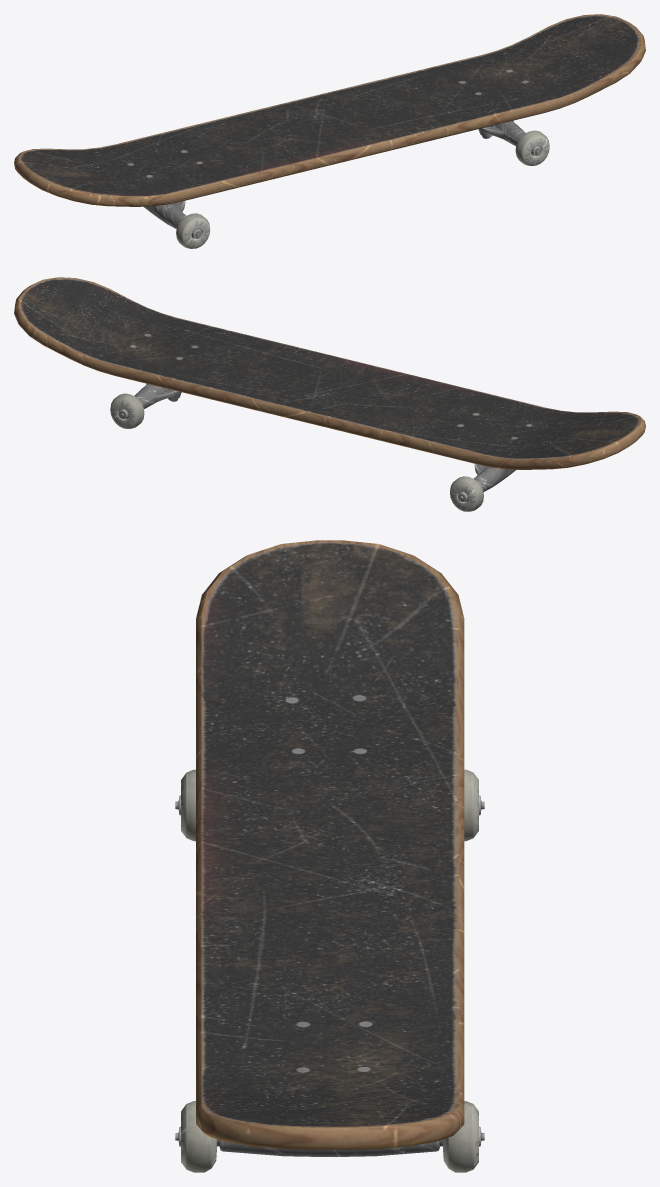
The model's file is SM_Skateboard.fbx.
The picture shows the model from 3 angles, top to bottom: view 1: azimuth 30°, elevation 25°; view 2: azimuth 150°, elevation 25°; view 3: azimuth 270°, elevation 25°; orthographic projection. The views are drawn at different scales.
Parts seen in each view (by area): view 1: SM_Skateboard_LOD0; view 2: SM_Skateboard_LOD0; view 3: SM_Skateboard_LOD0.
Boxes of the visible parts, x1,y1,x2,y2 form: SM_Skateboard_LOD0: (14, 14, 645, 248); SM_Skateboard_LOD0: (14, 277, 645, 511); SM_Skateboard_LOD0: (175, 540, 484, 1172).
Bounding box in the file's own units: 120 × 26.51 × 16.06.
